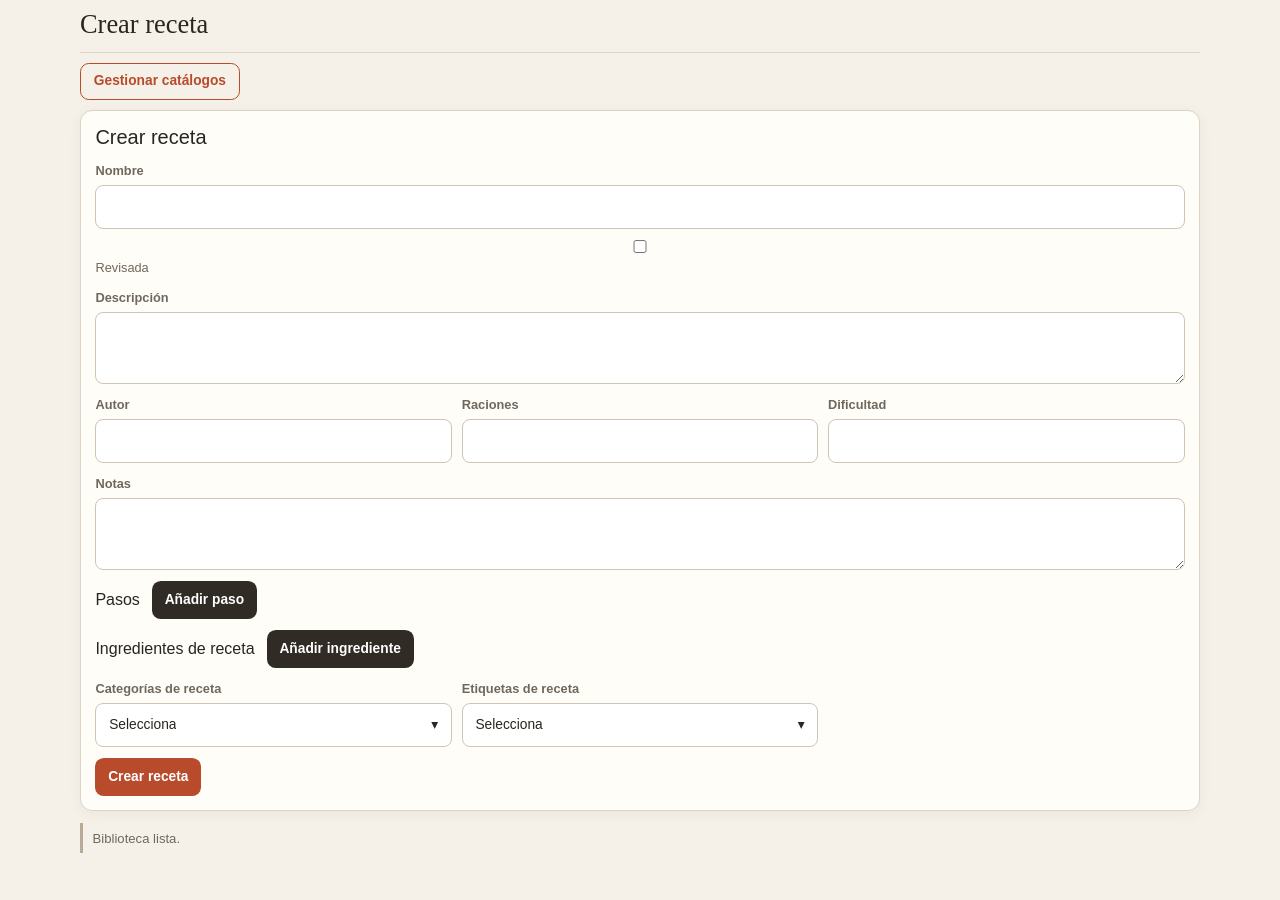
creates recipes with explicitly selected reviewed status true
The width and height of the screenshot is (1280, 900).
Expected: the text "Biblioteca lista." is shown, [80,823,1200,853]
Expected: the checkbox labelled "Revisada" is not checked, [95,240,1185,253]
Type "Nueva receta" into the field labelled "Nombre" at (640, 207), box [95,185,1185,229]
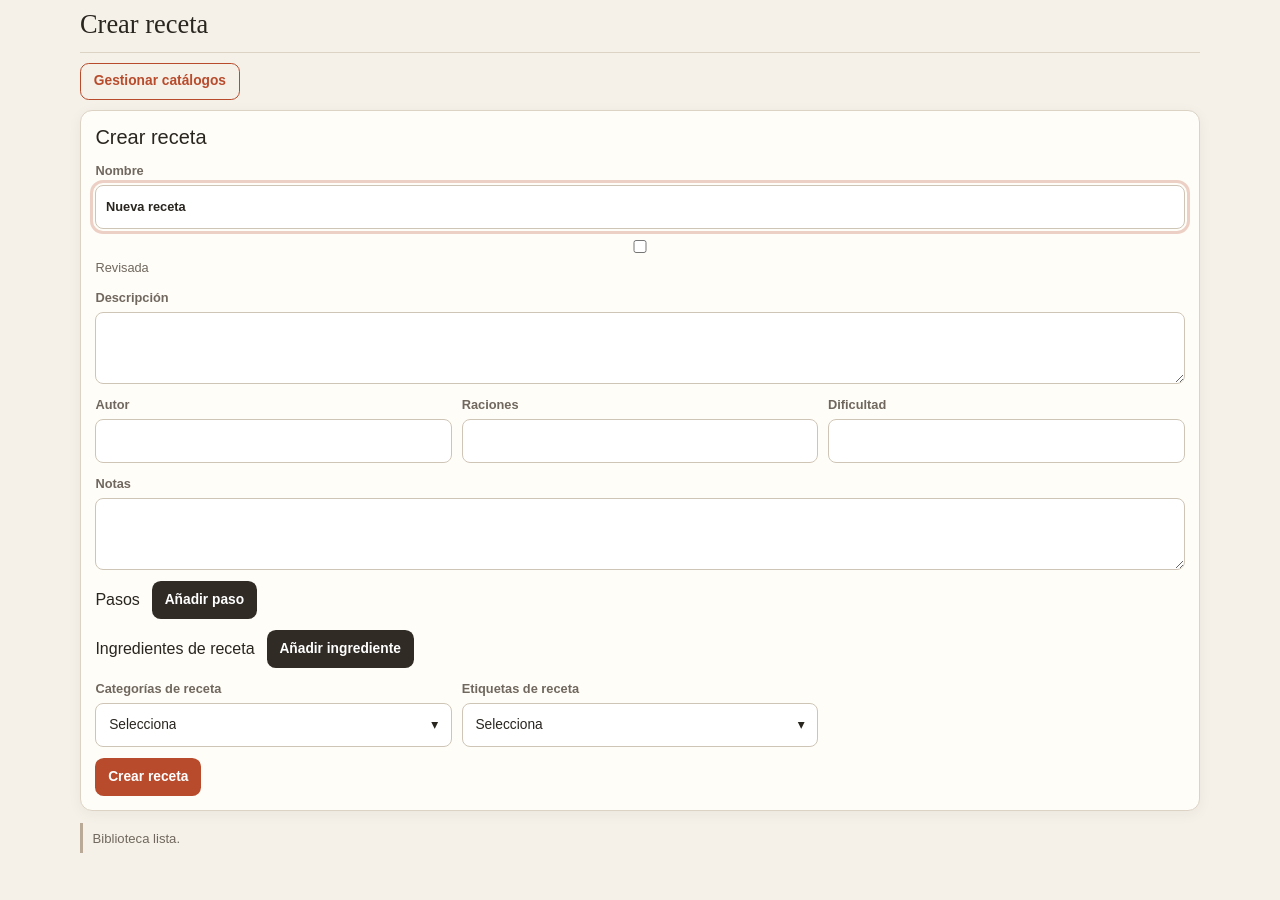
Click the checkbox labelled "Revisada" at (640, 246), box [95,240,1185,253]
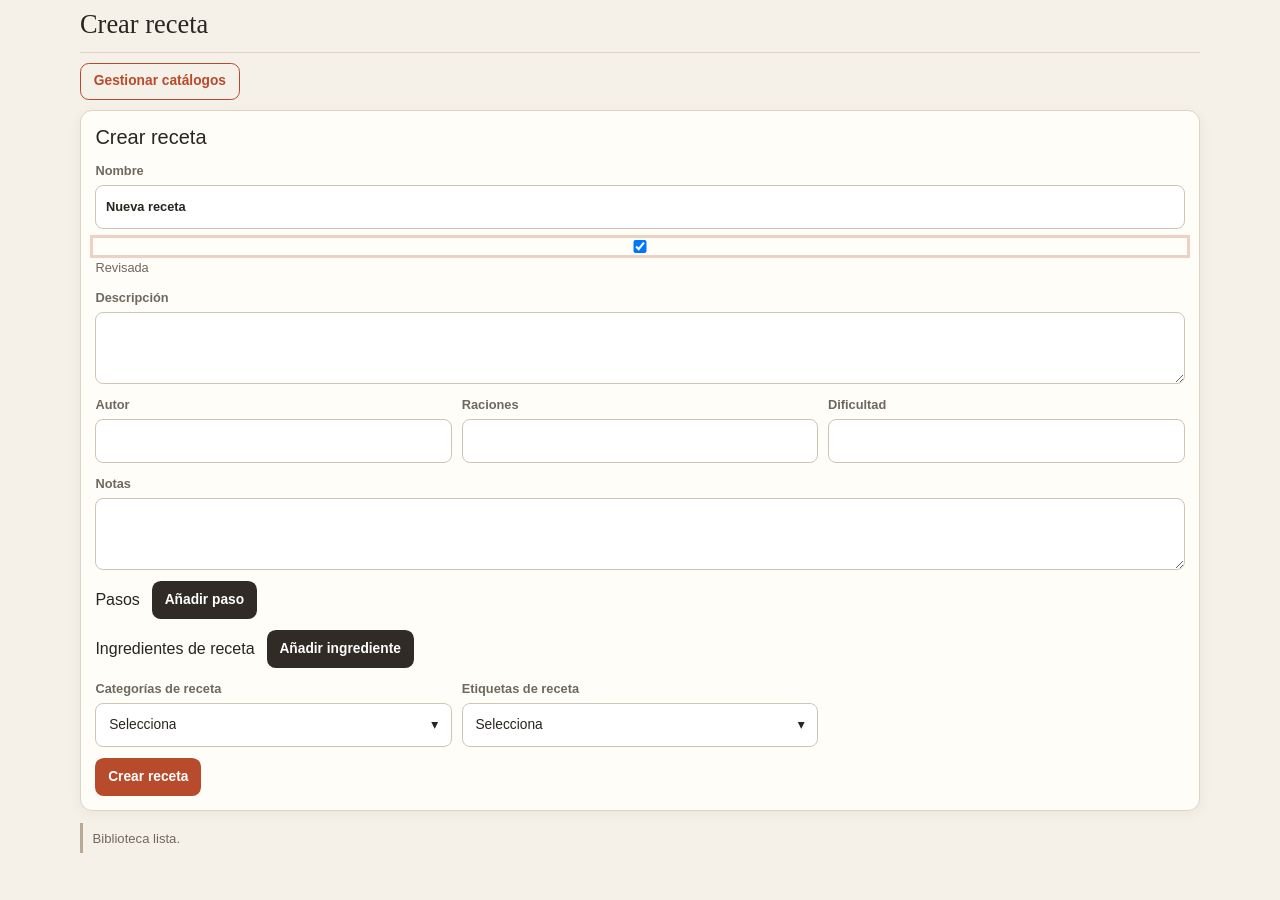
Click the button "Crear receta" at (148, 777), box [95,758,201,796]
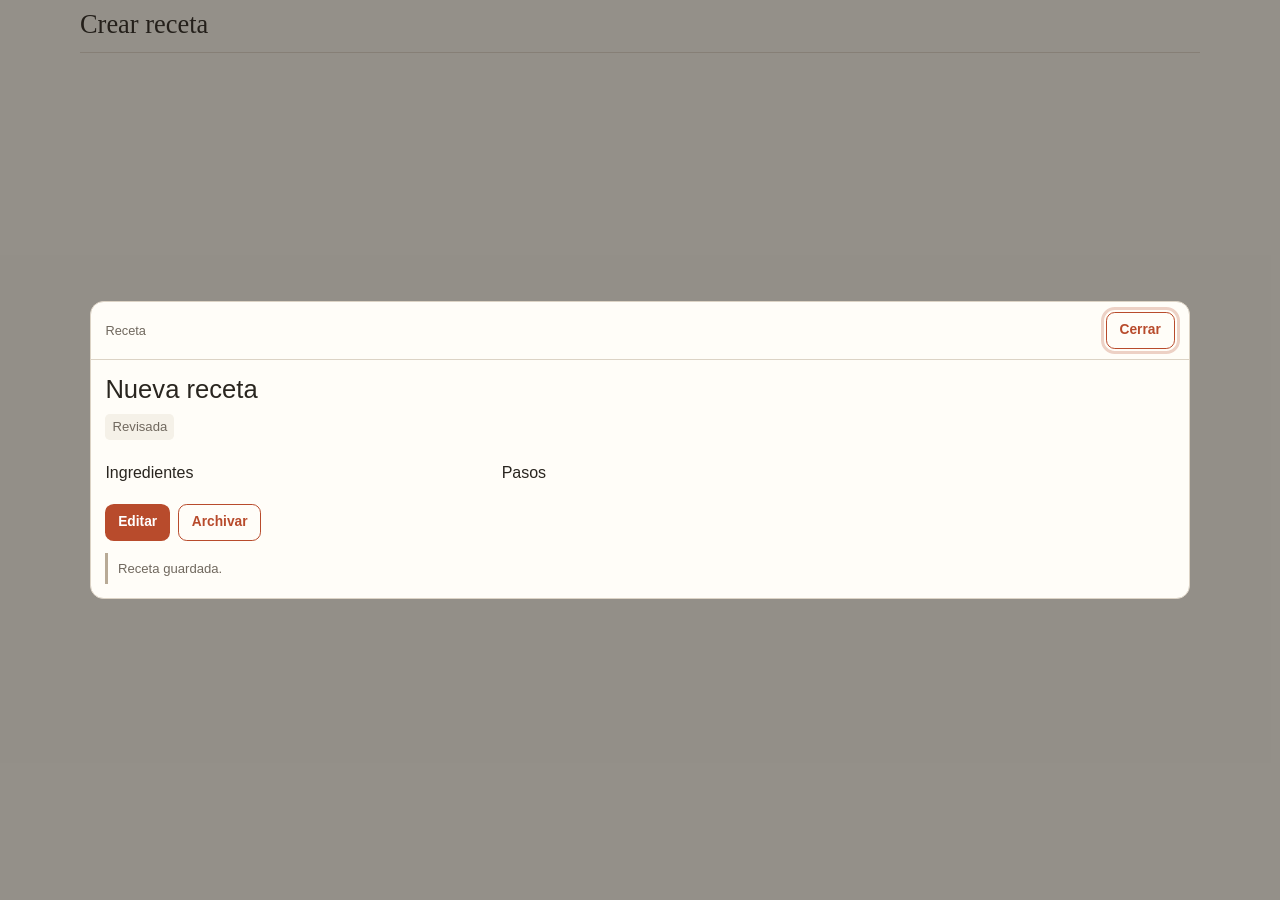
Now the text "Receta guardada." is shown, box [105,553,1175,584]
Now the text "Revisada" is shown, box [105,414,174,440]
